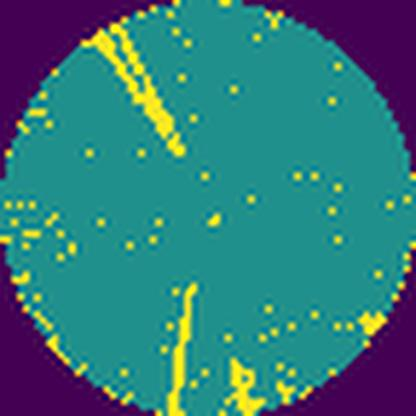Scratch: (77, 18, 190, 164), (159, 276, 203, 416), (223, 351, 270, 416)
